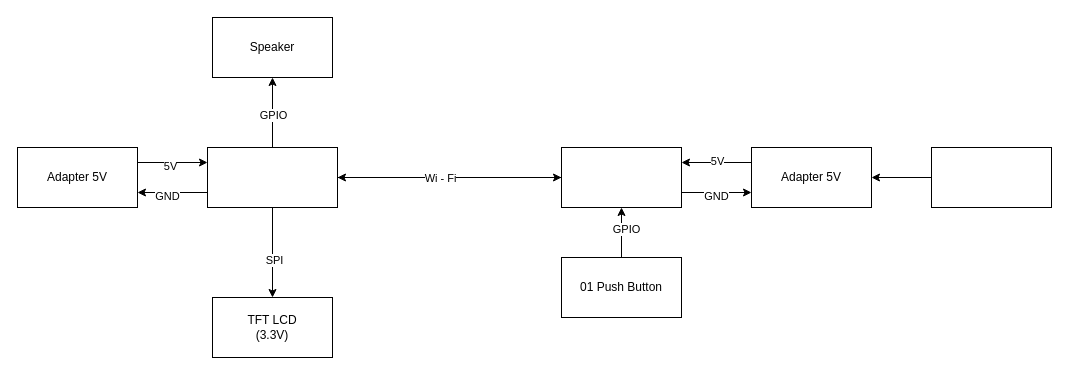
This 1069x375 diagram has some shape labels left out. The box of each missing label's shape, as (x1, y1, x2, y2) in pixels:
220V source: (930, 146, 1052, 208)
ESP32 - CAM (5V): (560, 146, 682, 208)
ESP32 - WROOM-32D (5V): (206, 146, 338, 208)
